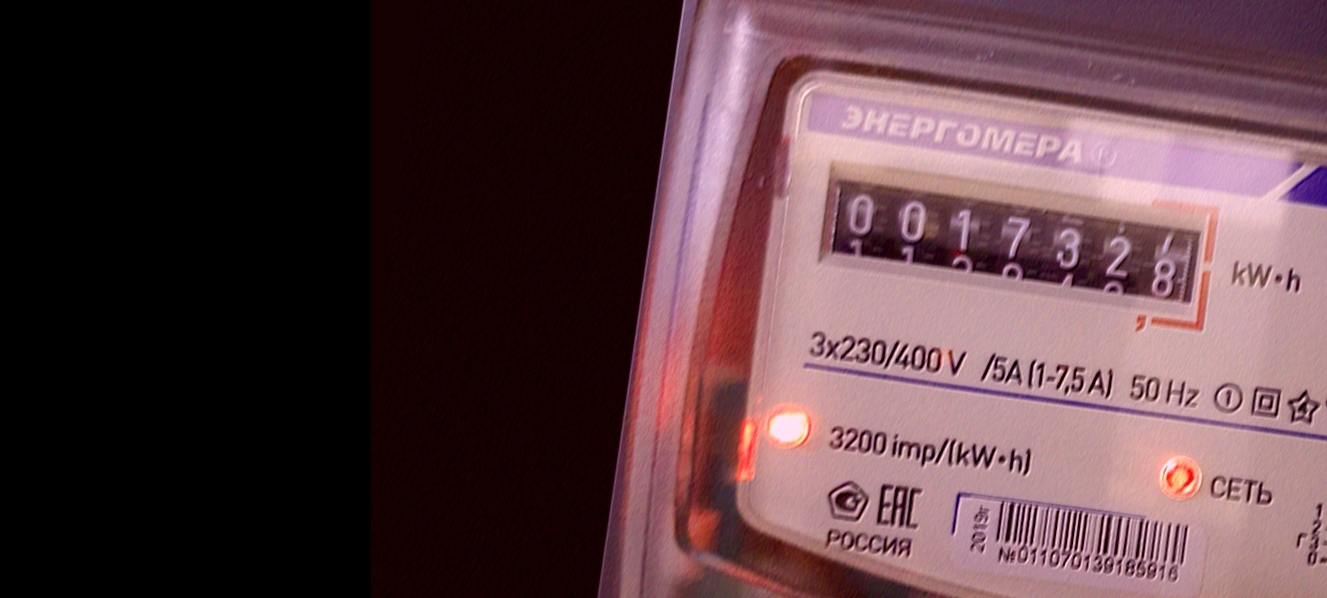0: (842, 191, 880, 239), (896, 196, 931, 245)
1: (949, 204, 977, 253)
2: (1100, 232, 1135, 281)
3: (1052, 224, 1085, 271)
7: (999, 213, 1032, 263)
8: (1147, 255, 1178, 300)
screen: (804, 152, 1228, 338)
